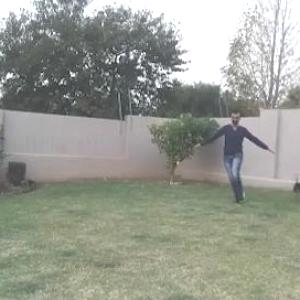land: (181, 103, 266, 203)
